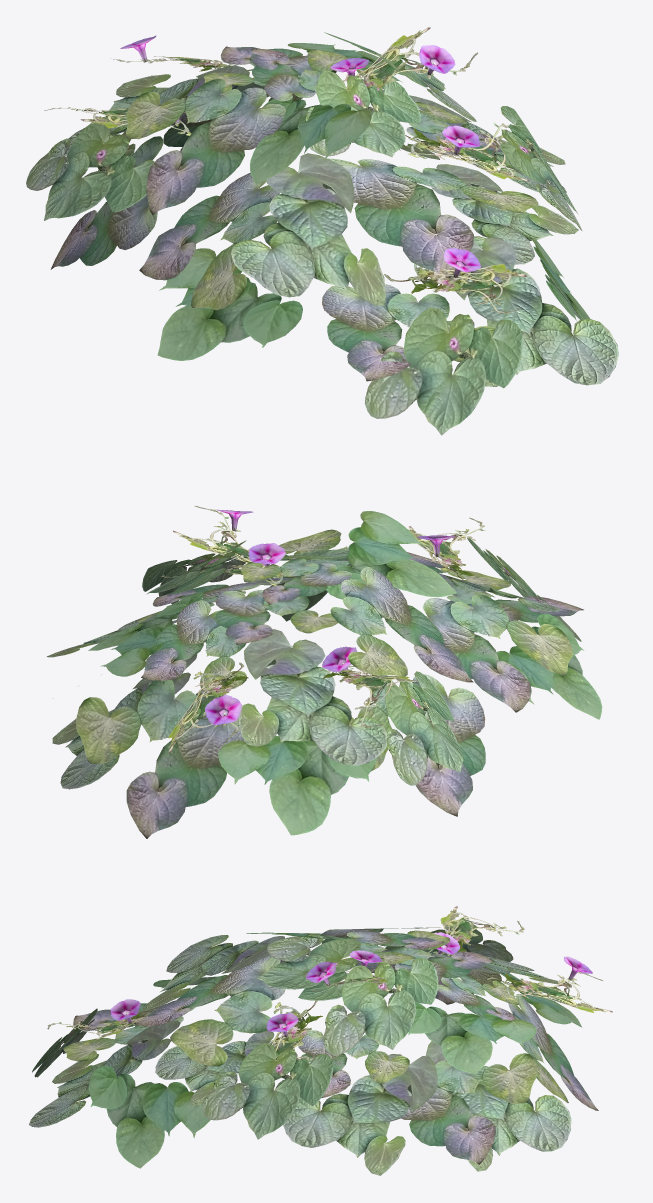
Rendered from MorningGlory1A.fbx.
3 views of the same model, one above another, from view 1: azimuth 30°, elevation 25°; view 2: azimuth 150°, elevation 25°; view 3: azimuth 270°, elevation 25° (orthographic). The views are drawn at different scales.
Visible parts, largest first — view 1: MorningGlory1A_LOD0; view 2: MorningGlory1A_LOD0; view 3: MorningGlory1A_LOD0.
Part boxes in pixels (left/top/right/bottom): MorningGlory1A_LOD0: left=26, top=27, right=618, bottom=435; MorningGlory1A_LOD0: left=47, top=506, right=602, bottom=838; MorningGlory1A_LOD0: left=29, top=906, right=612, bottom=1175.
Size of what is drawn, in the model's own units: 131 by 59.28 by 166.
